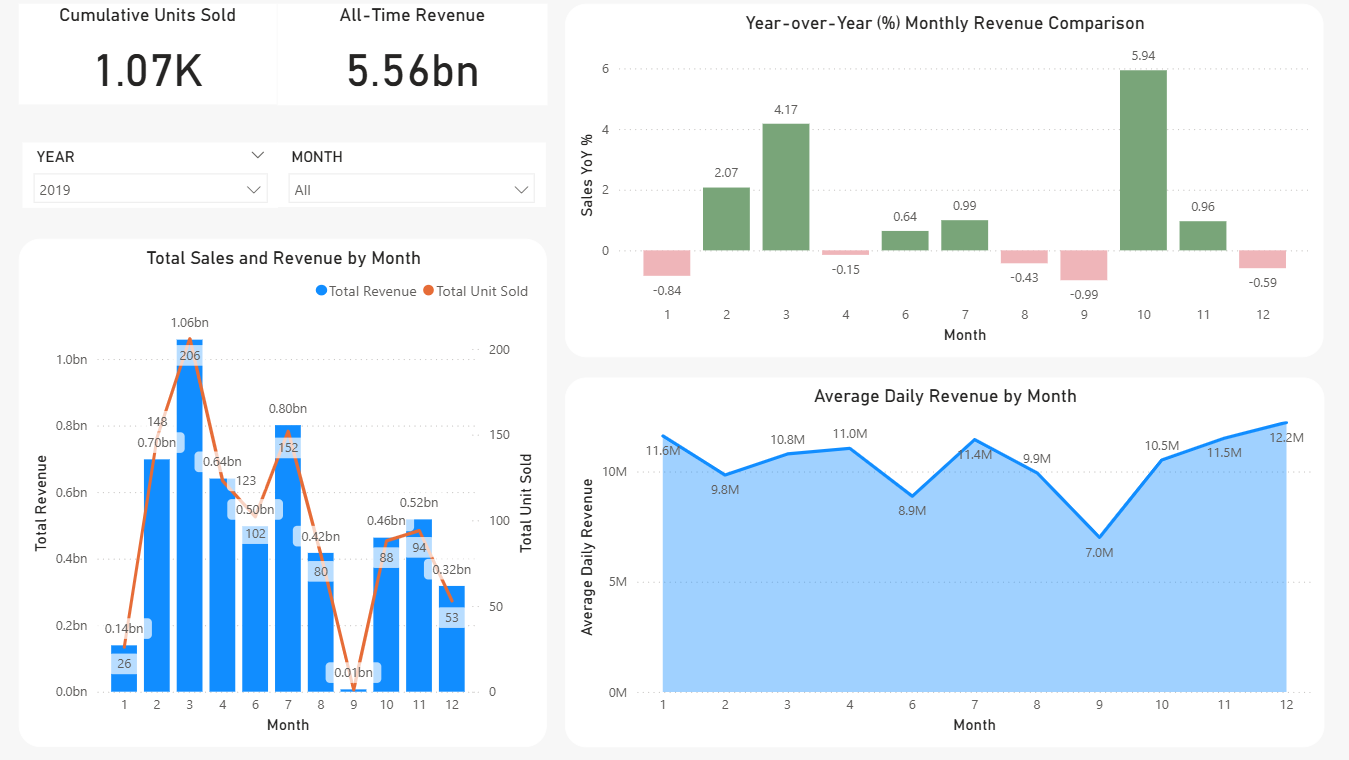

This screenshot's page, from the dashboard's own definition file:
{"tool":"powerbi","page":{"name":"time analysis bashboard","canvas":[1280,720],"ordinal":0},"visuals":[{"type":"areaChart","title":"Average Daily Revenue by Month","fields":{"Category":["DM_TIME_ANALYSIS.MONTH"],"Y":["Sum(DM_TIME_ANALYSIS.AVG_DAILY_REVENUE)"]},"box":[540,360,706.2,343.8],"z":0},{"type":"slicer","fields":{"Values":["DM_TIME_ANALYSIS.YEAR"]},"box":[35,142.3,237.9,60.7],"z":1000,"group":"g2"},{"type":"lineClusteredColumnComboChart","title":"Total Sales and Revenue by Month","fields":{"Category":["DM_TIME_ANALYSIS.MONTH"],"Y":["Sum(DM_TIME_ANALYSIS.TOTAL_REVENUE)"],"Y2":["Sum(DM_TIME_ANALYSIS.TOTAL_SOLD)"]},"box":[31.4,231.4,491.4,472.9],"z":1000},{"type":"columnChart","title":"Year-over-Year (%) Monthly Revenue Comparison","fields":{"Y":["DM_TIME_ANALYSIS.Sales YoY % #2"],"Category":["DM_TIME_ANALYSIS.MONTH"]},"box":[540,12.9,705.7,328.6],"z":2000},{"type":"group","id":"g1","title":"Group 1","box":[31.4,12.9,491.4,94.3],"z":3000},{"type":"card","title":"Cumulative Units Sold","fields":{"Values":["Sum(DM_TIME_ANALYSIS.TOTAL_SOLD)"]},"box":[31.4,12.9,239.7,93.6],"z":4000,"group":"g1"},{"type":"group","id":"g2","title":"Group 2","box":[35,142.3,487.2,60.7],"z":4000},{"type":"slicer","fields":{"Values":["DM_TIME_ANALYSIS.MONTH"]},"box":[272.6,142.6,249.5,60],"z":4000,"group":"g2"},{"type":"card","title":"All-Time Revenue","fields":{"Values":["Sum(DM_TIME_ANALYSIS.TOTAL_REVENUE)"]},"box":[271.9,13,251,94.1],"z":5000,"group":"g1"}]}

Visuals, with their boxes in screenshot pixels (x1, y1, x2, y2), scaled from the page's 1280x720 canvas onto the 1349x760 screenshot:
"Average Daily Revenue by Month" areaChart: left=569, top=380, right=1313, bottom=743
slicer - DM_TIME_ANALYSIS.YEAR: left=37, top=150, right=288, bottom=214
"Total Sales and Revenue by Month" lineClusteredColumnComboChart: left=33, top=244, right=551, bottom=743
"Year-over-Year (%) Monthly Revenue Comparison" columnChart: left=569, top=14, right=1313, bottom=360
"Group 1" group: left=33, top=14, right=551, bottom=113
"Cumulative Units Sold" card: left=33, top=14, right=286, bottom=112
"Group 2" group: left=37, top=150, right=550, bottom=214
slicer - DM_TIME_ANALYSIS.MONTH: left=287, top=151, right=550, bottom=214
"All-Time Revenue" card: left=287, top=14, right=551, bottom=113
